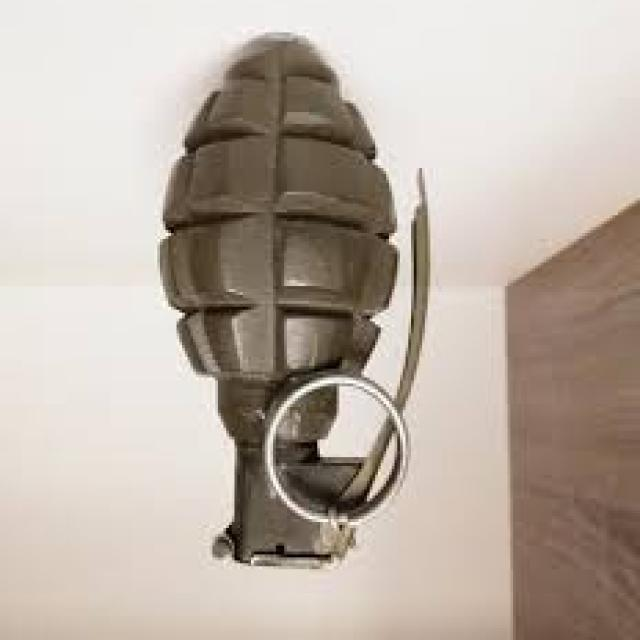grenade: (156, 24, 448, 586)
